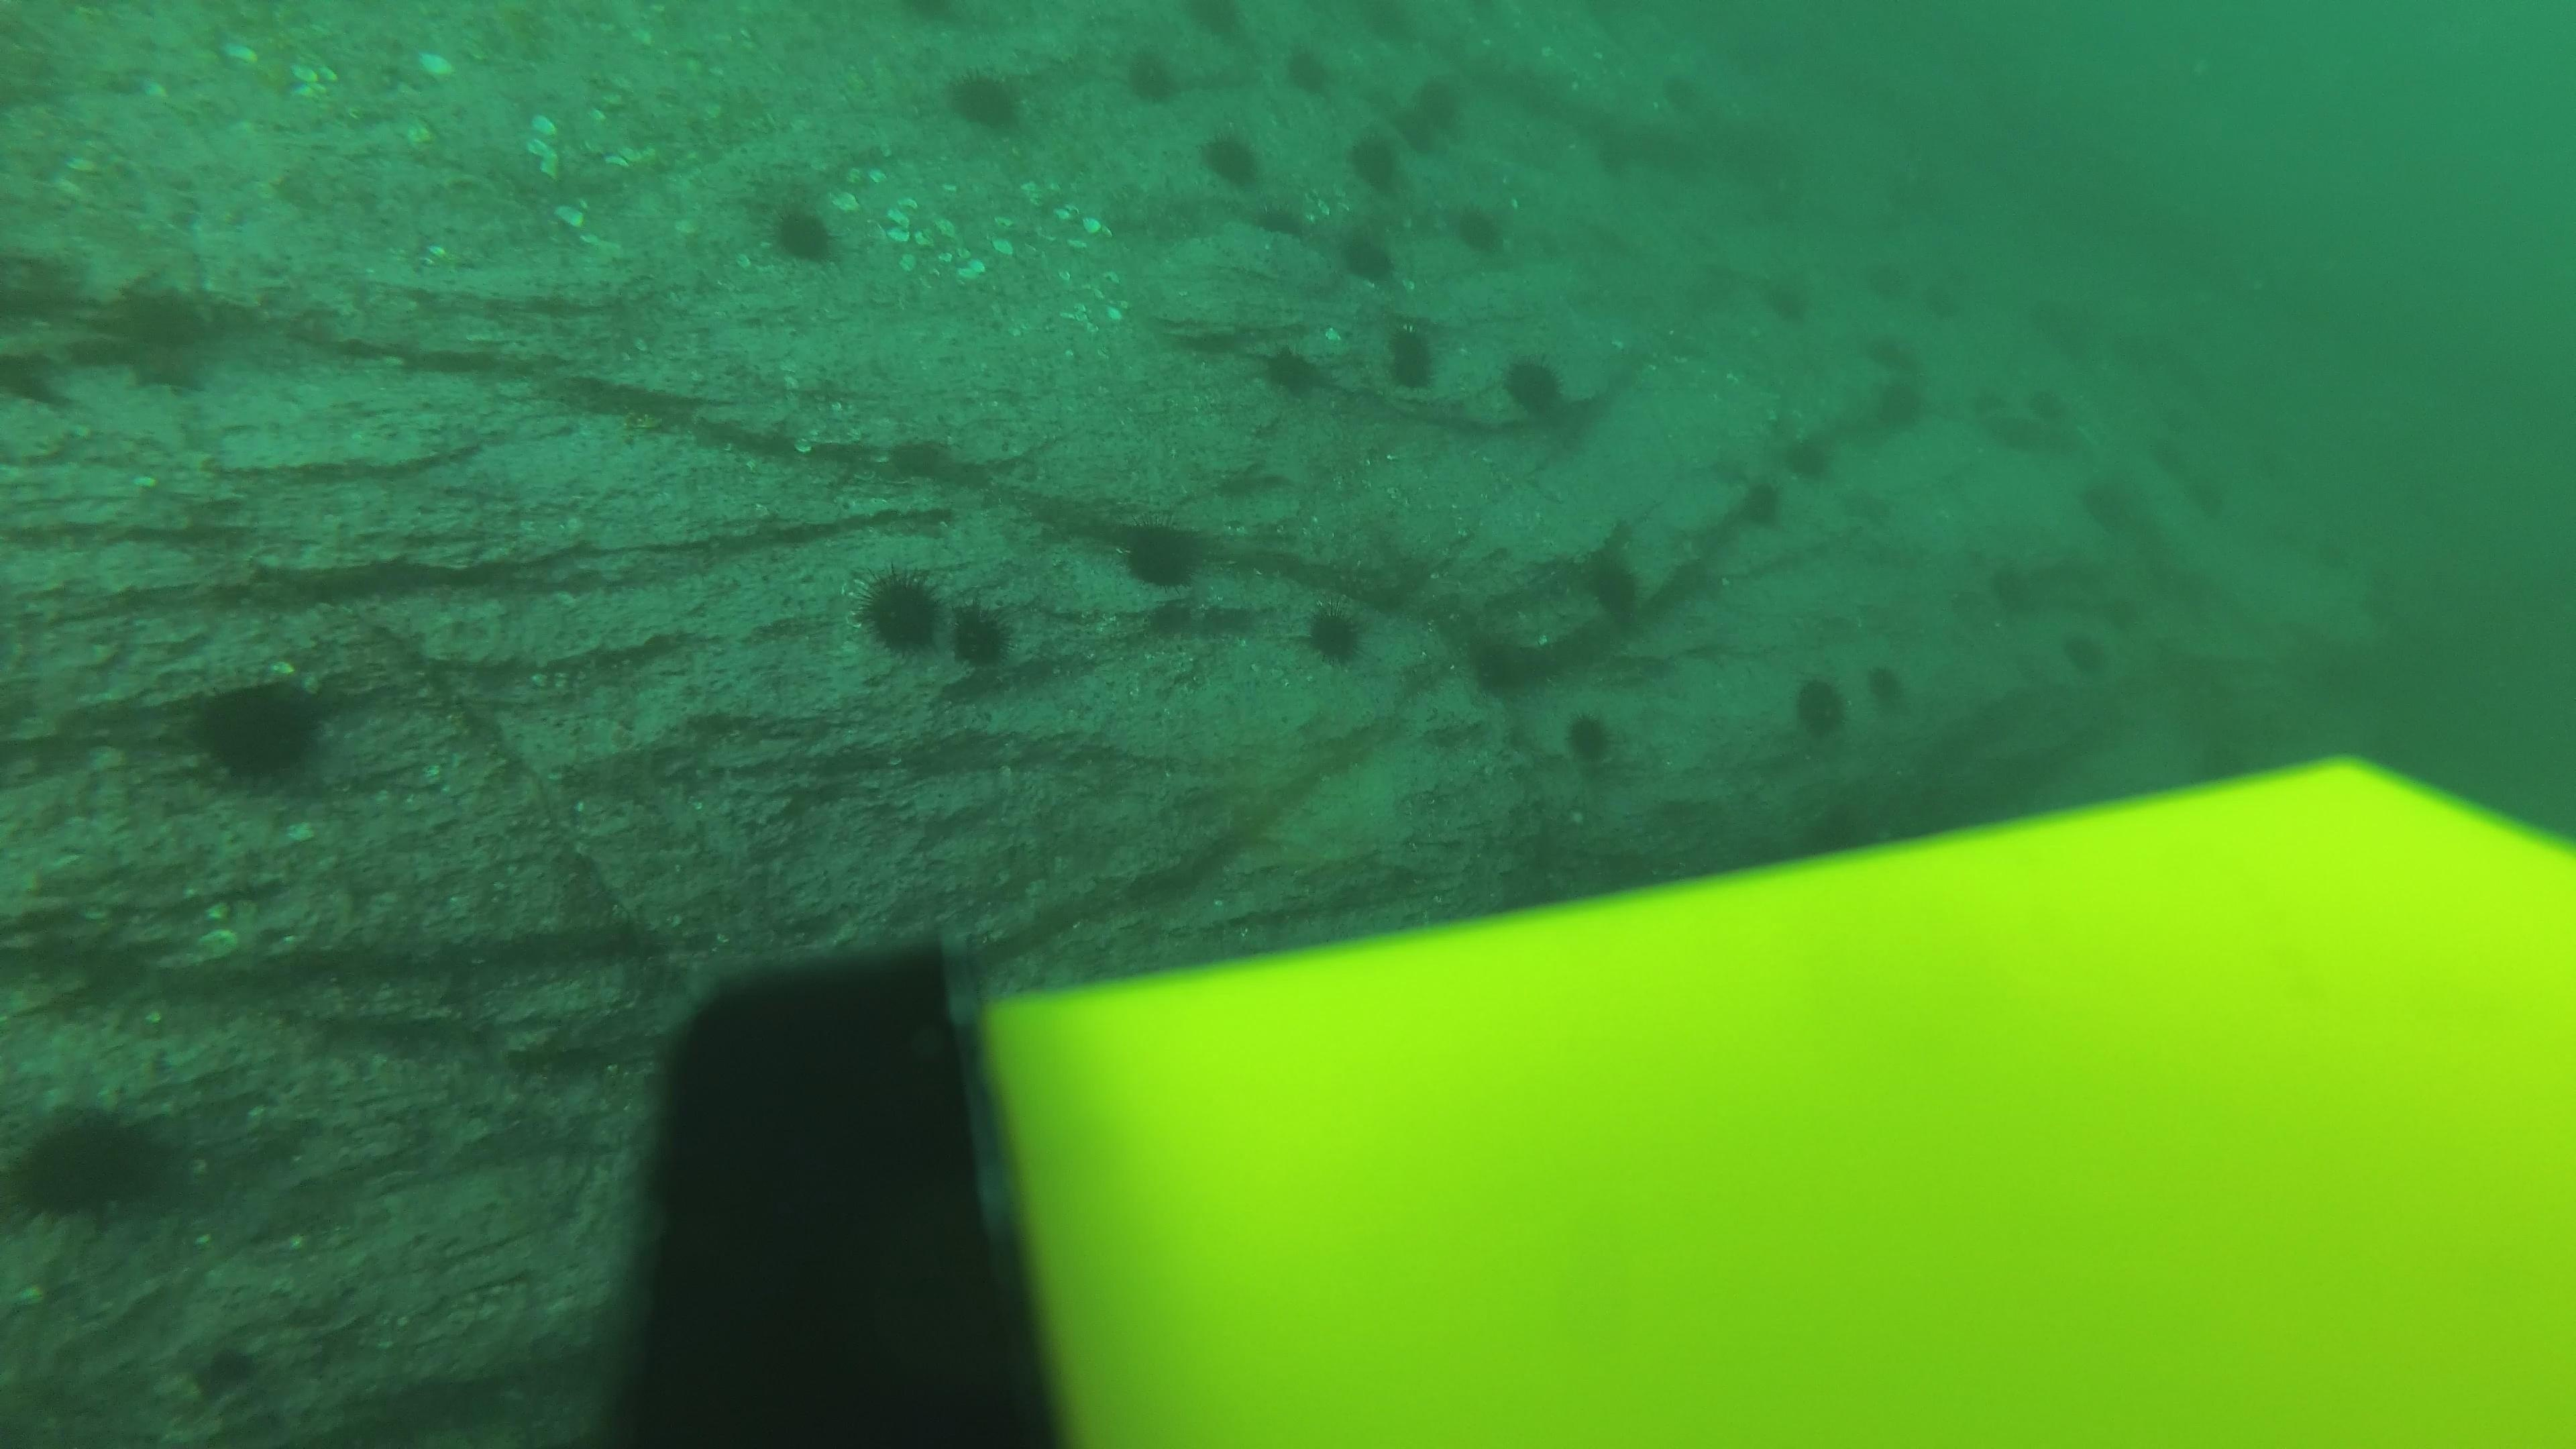echinus: (7, 1095, 180, 1230), (180, 669, 334, 791), (819, 556, 980, 669), (924, 594, 1023, 683), (1109, 511, 1212, 596), (938, 60, 1035, 142), (755, 189, 849, 272), (1461, 625, 1552, 702), (1495, 347, 1578, 426), (1292, 596, 1376, 672), (1576, 545, 1652, 628), (1849, 655, 1920, 732), (1978, 547, 2049, 625), (2051, 621, 2121, 699), (2065, 471, 2135, 548), (1863, 377, 1934, 455), (1729, 472, 1799, 550), (1785, 667, 1854, 745), (1557, 704, 1628, 777), (1378, 318, 1445, 395), (1253, 338, 1329, 405), (1196, 124, 1267, 191), (1116, 42, 1187, 110), (1357, 0, 1442, 55), (1343, 126, 1410, 195), (1171, 0, 1254, 55), (1449, 196, 1514, 262), (1334, 225, 1401, 288), (1778, 428, 1838, 487), (1868, 327, 1923, 384), (1767, 281, 1822, 336), (1858, 255, 1913, 310), (2135, 416, 2190, 471), (2174, 464, 2229, 518), (2026, 382, 2081, 437), (2307, 524, 2362, 579), (1642, 58, 1697, 113), (1585, 127, 1640, 182), (1414, 73, 1472, 119), (1394, 111, 1453, 157), (1279, 46, 1338, 92)
starfish: (117, 329, 221, 400)
